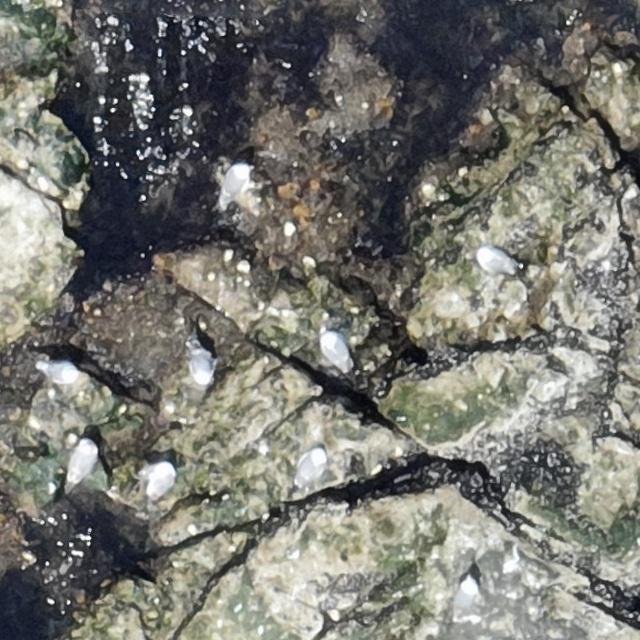umineko: (67, 432, 100, 492), (140, 458, 177, 507), (293, 447, 326, 498), (217, 161, 249, 211), (187, 333, 215, 386), (321, 330, 353, 374), (35, 357, 77, 386), (449, 576, 477, 616), (478, 247, 518, 274)
